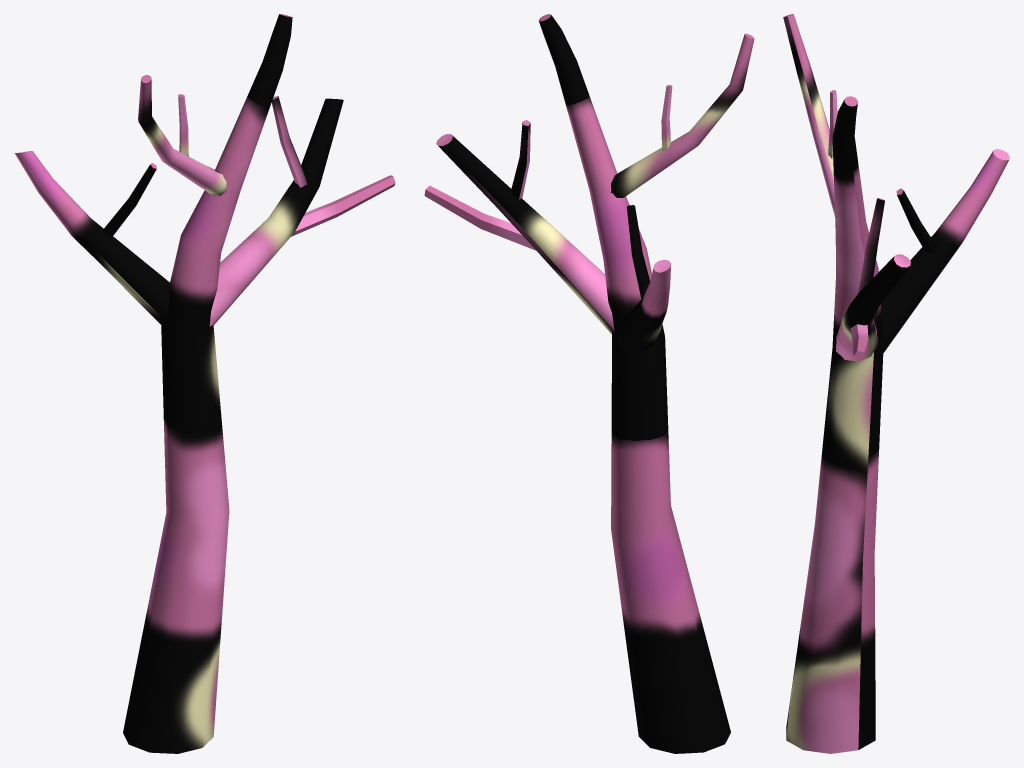
File: DeadTree_1.obj
3 renders of one model, left to right at view 1: azimuth 30°, elevation 25°; view 2: azimuth 150°, elevation 25°; view 3: azimuth 270°, elevation 25°, orthographic. The views are drawn at different scales.
Parts seen in each view (by area): view 1: DeadTree_1_Cylinder.038; view 2: DeadTree_1_Cylinder.038; view 3: DeadTree_1_Cylinder.038.
Boxes of the visible parts, x1,y1,x2,y2 form: DeadTree_1_Cylinder.038: [14, 14, 395, 753]; DeadTree_1_Cylinder.038: [424, 14, 754, 753]; DeadTree_1_Cylinder.038: [783, 14, 1009, 753].
Size of the model in its own units: 2.44 by 5.17 by 1.52.
Materials: 1 (1 with a texture image).
